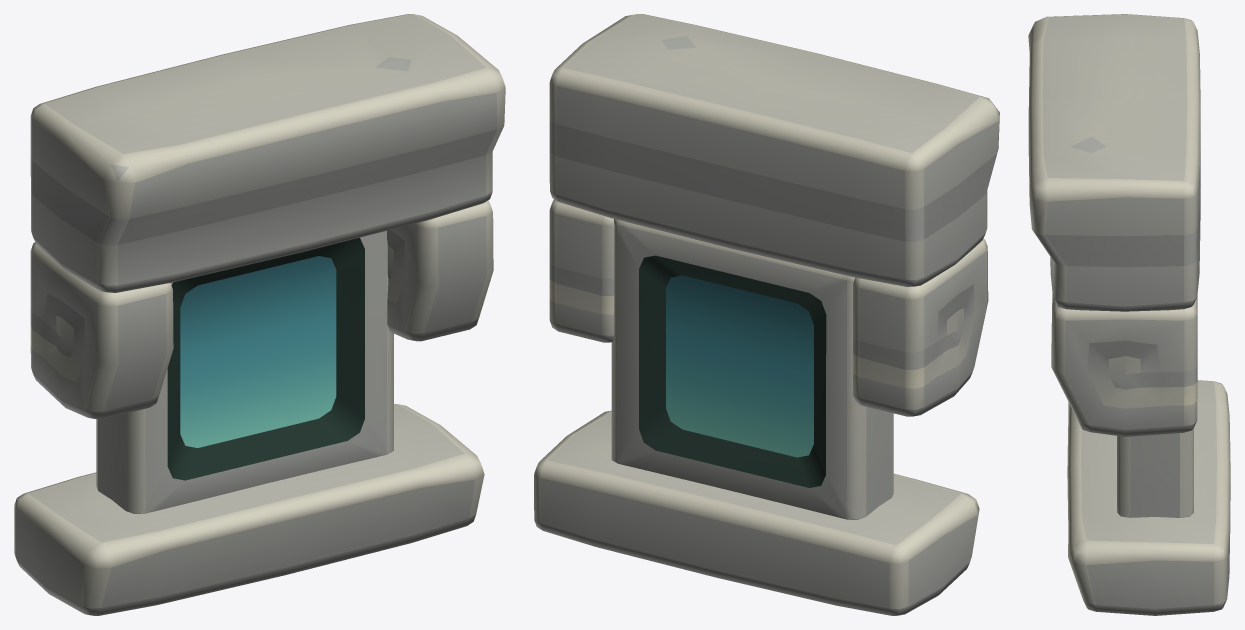
The model's file is window_ornate1_LOD_setup.fbx.
3 views of the same model, side by side, from view 1: azimuth 30°, elevation 25°; view 2: azimuth 150°, elevation 25°; view 3: azimuth 270°, elevation 25° (orthographic). The views are drawn at different scales.
Parts seen in each view (by area): view 1: window_ornate1_LOD0; view 2: window_ornate1_LOD0; view 3: window_ornate1_LOD0.
Part boxes in pixels (<box>): window_ornate1_LOD0: <box>14,14,505,615</box>; window_ornate1_LOD0: <box>534,14,999,615</box>; window_ornate1_LOD0: <box>1028,14,1230,615</box>.
Size of what is drawn, in the model's own units: 156 by 182 by 75.75.
